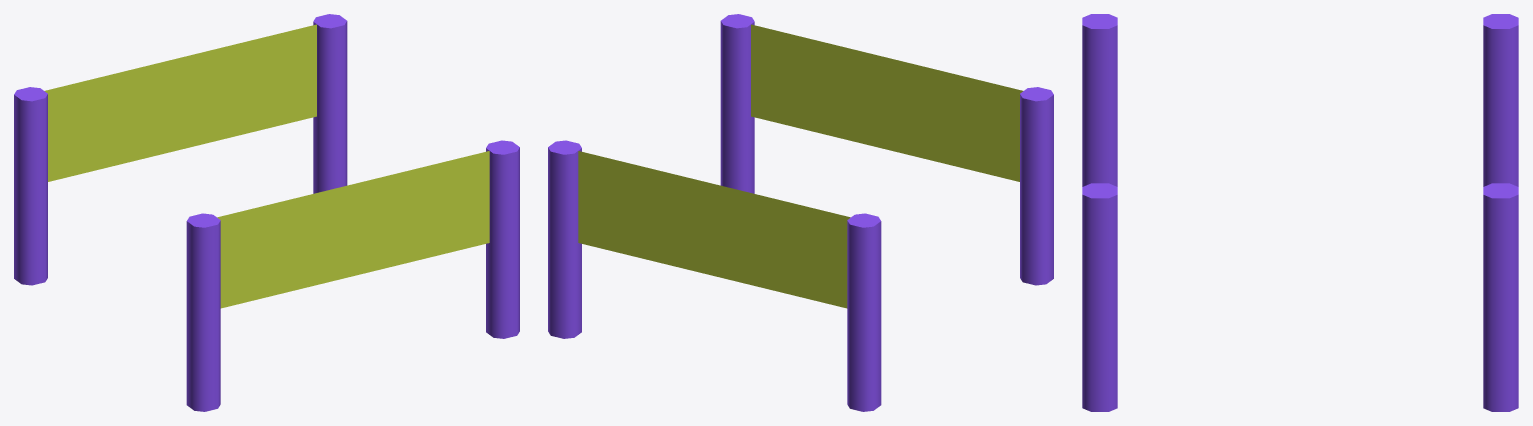
File: banner_double.fbx
3 renders of one model, left to right at view 1: azimuth 30°, elevation 25°; view 2: azimuth 150°, elevation 25°; view 3: azimuth 270°, elevation 25°, orthographic. The views are drawn at different scales.
Visible parts, largest first — view 1: banner_double; view 2: banner_double; view 3: banner_double.
Part boxes in pixels (box(x1,y1,x2,y2)): banner_double: box(14, 14, 519, 411); banner_double: box(548, 14, 1053, 411); banner_double: box(1082, 14, 1518, 411).
Bounding box in the file's own units: 9.25 × 5 × 9.25.
